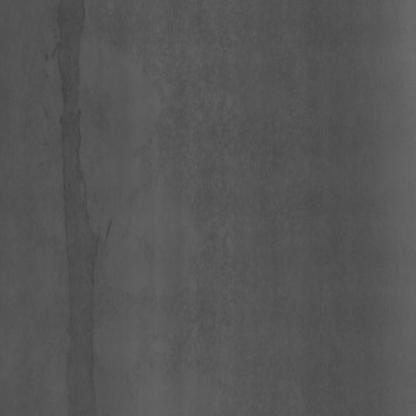water_spot: (52, 20, 117, 400)
